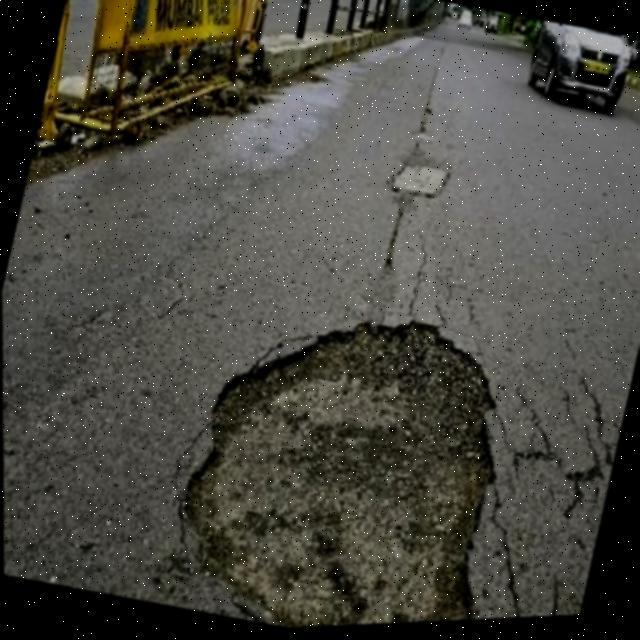pothole: (150, 270, 536, 634)
